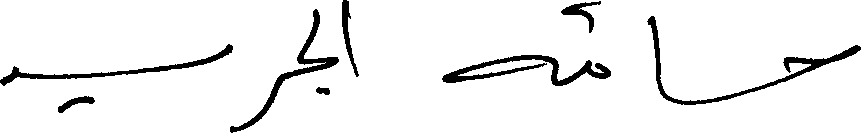ا: (646, 14, 666, 100), (338, 0, 360, 77)
ج: (300, 54, 339, 96)
ح: (782, 42, 859, 82)
د: (231, 43, 280, 130), (0, 63, 18, 85)
ل: (294, 6, 320, 61)
م: (586, 0, 610, 80)
ه: (440, 53, 558, 86)
ي: (58, 41, 233, 114)
